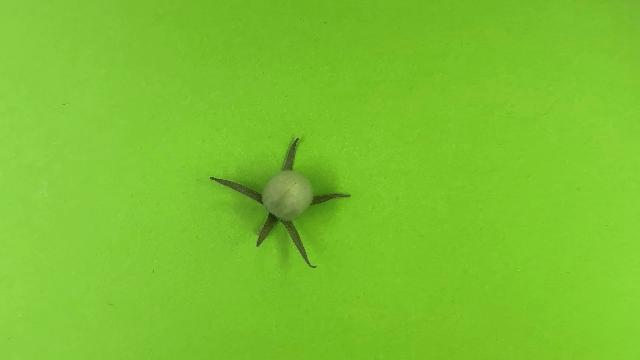Fruit Maturation: (261, 170, 315, 222)
